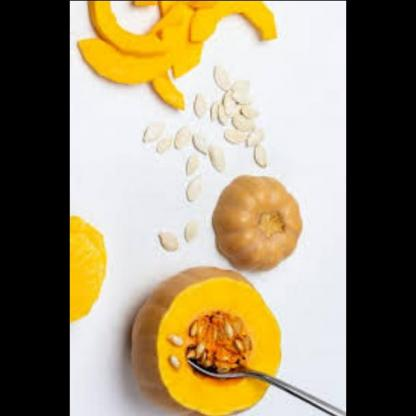pumpkin: (131, 255, 288, 413), (75, 0, 284, 110), (214, 169, 310, 276), (71, 214, 121, 321)
